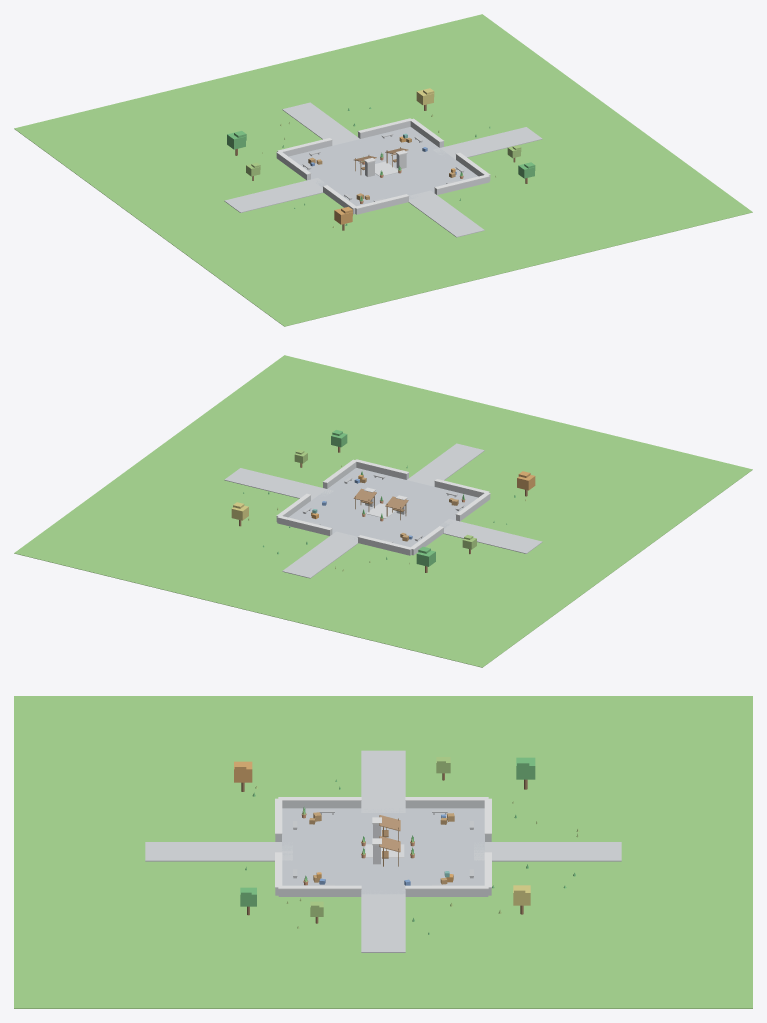
Rendered from market_square.glb.
3 views of the same model, one above another, from view 1: azimuth 30°, elevation 25°; view 2: azimuth 150°, elevation 25°; view 3: azimuth 270°, elevation 25° (orthographic). The views are drawn at different scales.
Parts seen in each view (by area): view 1: Ground, Floor, Street_S, Street_W, Street_E, Street_N; view 2: Ground, Floor, Street_N, Street_W, Street_E, Street_S; view 3: Ground, Floor, Street_N, Street_S, Street_W, Street_E, Wall_E_A, Wall_E_B, Wall_W_B, Wall_W_A.
Boxes of the visible parts, x1,y1,x2,y2 form: Ground: [14, 14, 752, 326]; Floor: [289, 127, 478, 206]; Street_S: [408, 190, 484, 237]; Street_W: [224, 178, 326, 212]; Street_E: [433, 127, 542, 159]; Street_N: [282, 102, 359, 145]; Ground: [14, 355, 752, 667]; Floor: [288, 468, 477, 547]; Street_N: [282, 531, 358, 578]; Street_W: [440, 519, 542, 553]; Street_E: [224, 468, 333, 500]; Street_S: [407, 443, 484, 486]; Ground: [14, 696, 752, 1008]; Floor: [282, 808, 484, 894]; Street_N: [474, 842, 621, 861]; Street_S: [145, 842, 292, 861]; Street_W: [361, 750, 405, 812]; Street_E: [361, 889, 405, 952]; Wall_E_A: [278, 889, 361, 896]; Wall_E_B: [405, 889, 488, 896]; Wall_W_B: [405, 801, 484, 808]; Wall_W_A: [282, 801, 361, 808].
Size of the model in its own units: 80 by 3.65 by 80.
